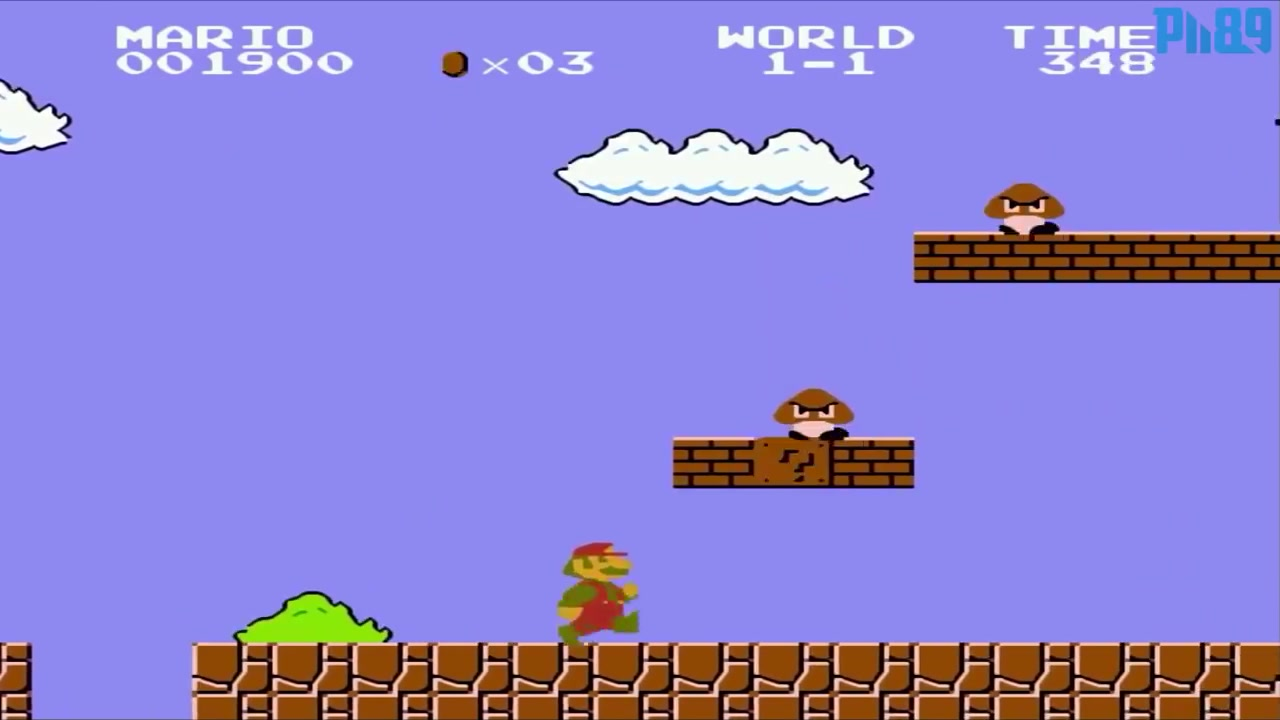mario: (547, 536, 644, 653)
